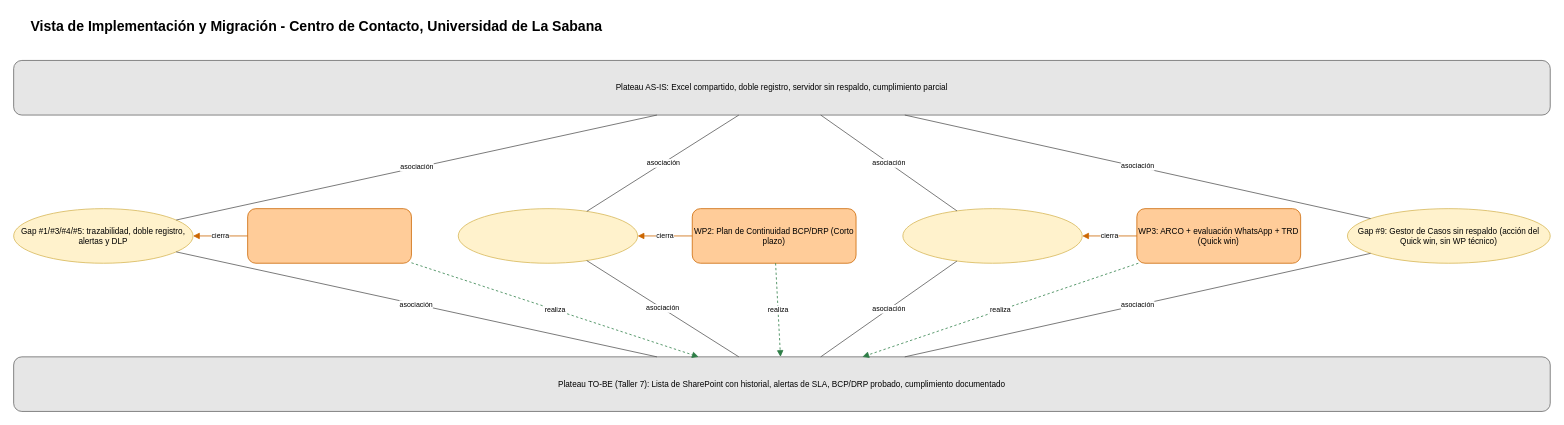
Image size: 1564x425. Some labels were removed from this diagram. The centre of each missing label's shape, as x and y in pixels:
"Gap #2: servidor sin BCP/DRP" goes at point (547, 235).
"Gap #6/#7/#8: sin ARCO, sin evaluar WhatsApp, sin TRD" goes at point (992, 235).
"WP1: Lista de SharePoint + Power Automate (Mediano y Largo plazo)" goes at point (329, 235).
